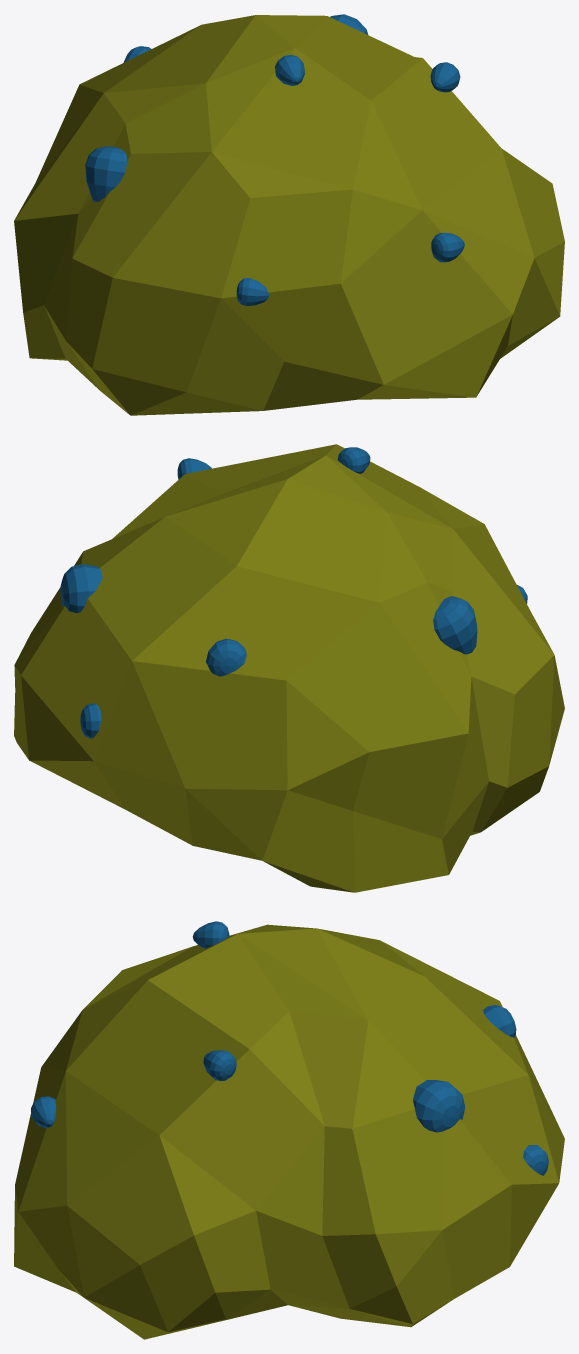
Rendered from blueberry_bush.glb.
3 views of the same model, one above another, from view 1: azimuth 30°, elevation 25°; view 2: azimuth 150°, elevation 25°; view 3: azimuth 270°, elevation 25° (orthographic). The views are drawn at different scales.
Parts seen in each view (by area): view 1: blueberry_bush; view 2: blueberry_bush; view 3: blueberry_bush.
Boxes of the visible parts, x1,y1,x2,y2 form: blueberry_bush: (14,14,564,415); blueberry_bush: (14,444,564,892); blueberry_bush: (14,921,564,1339).
Size of the model in its own units: 6.2 by 4.4 by 6.29.
Materials: 1 (1 with a texture image).
